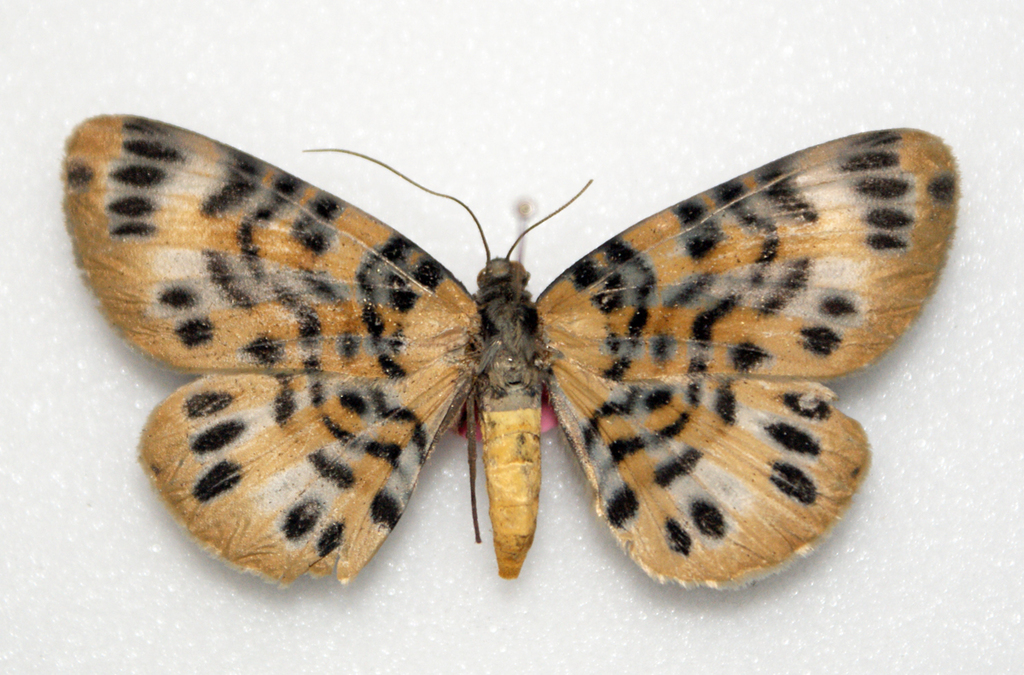Butterfly: (58, 101, 975, 595)
